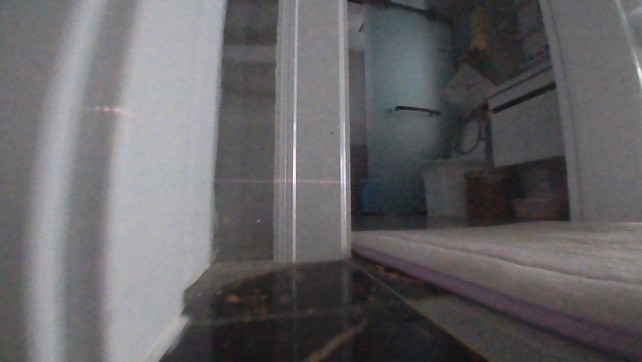blanket: (346, 215, 641, 361)
toilet: (415, 115, 486, 215)
